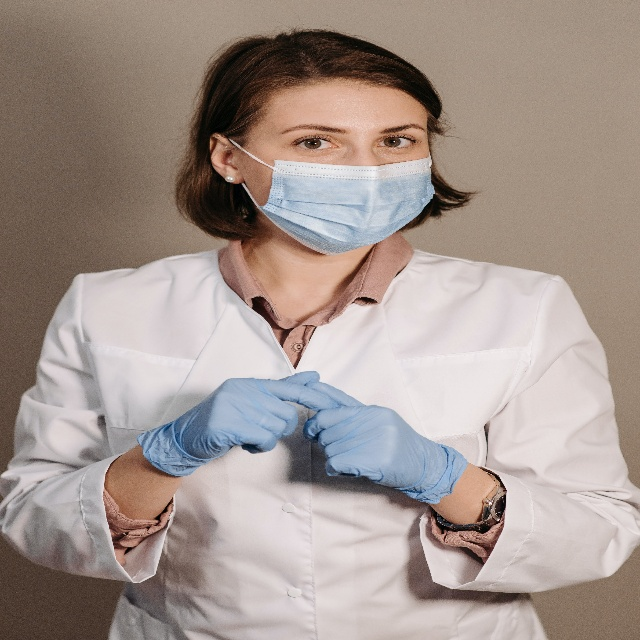Guantes: (302, 382, 461, 503), (178, 370, 322, 464)
Mascara: (262, 155, 433, 251)
